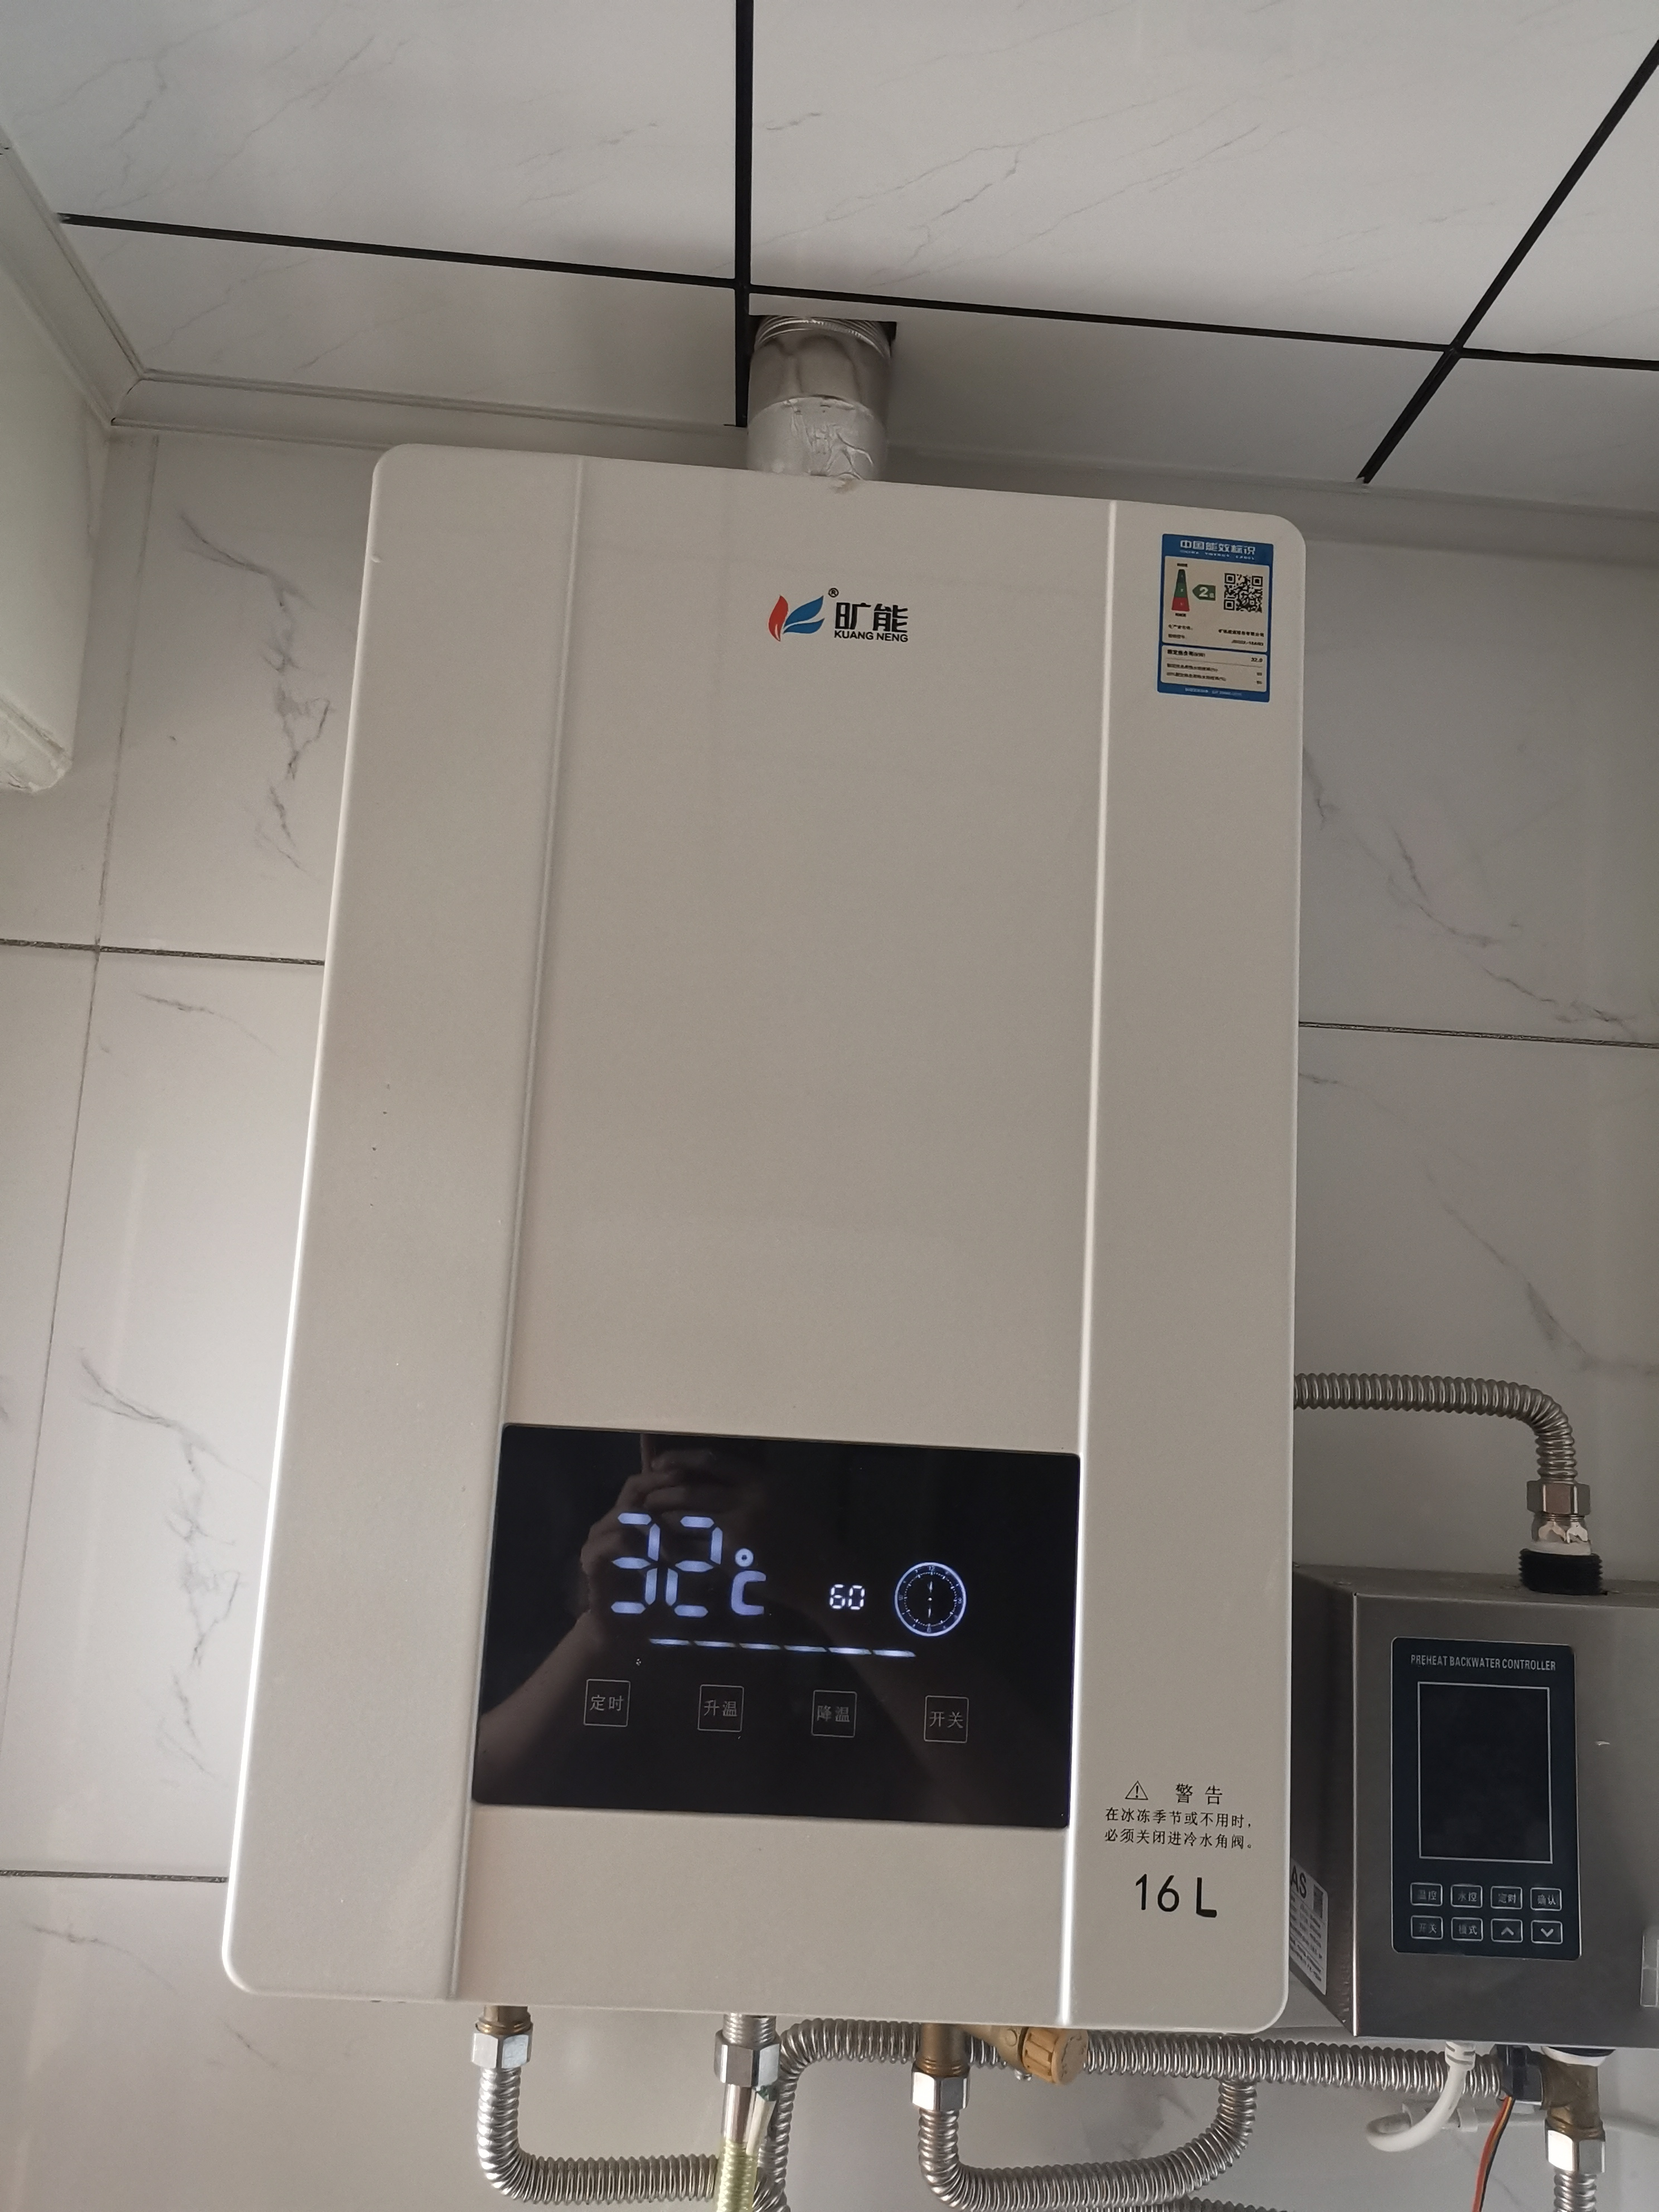loudou: (746, 573, 941, 665)
